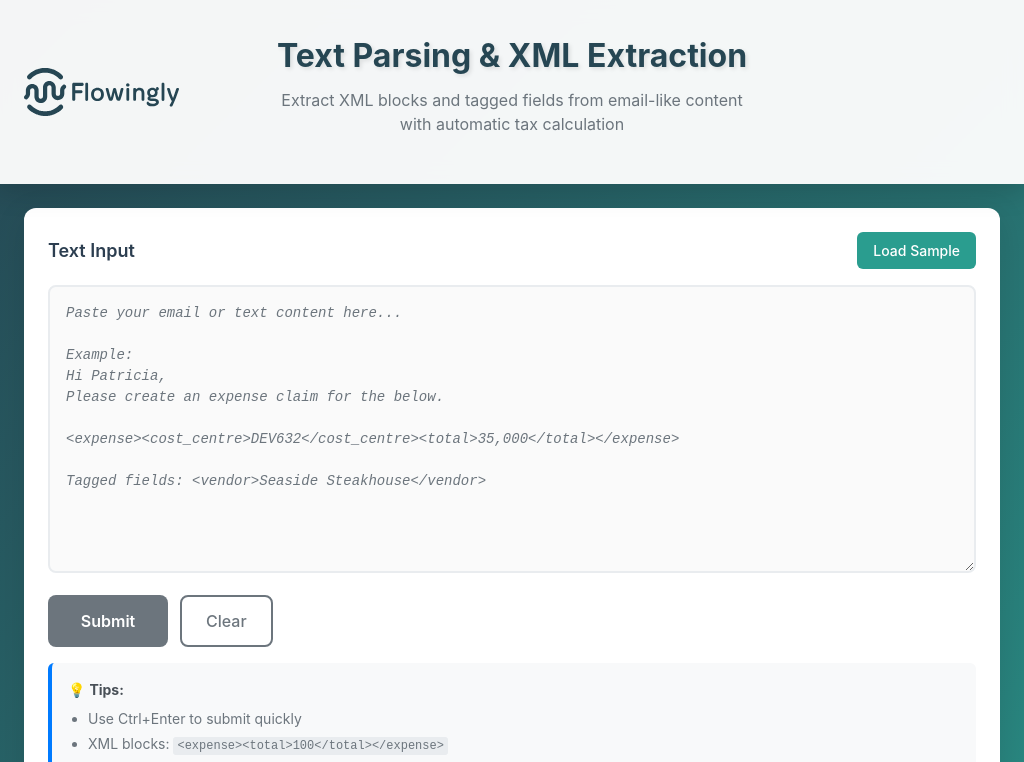
Test case: Text Parsing App › clears input when Clear button is clicked
Add some text
Replace the text in the text box labelled "Text Input" with "Some test text". click: (512, 429)
box: [48,285,976,573]
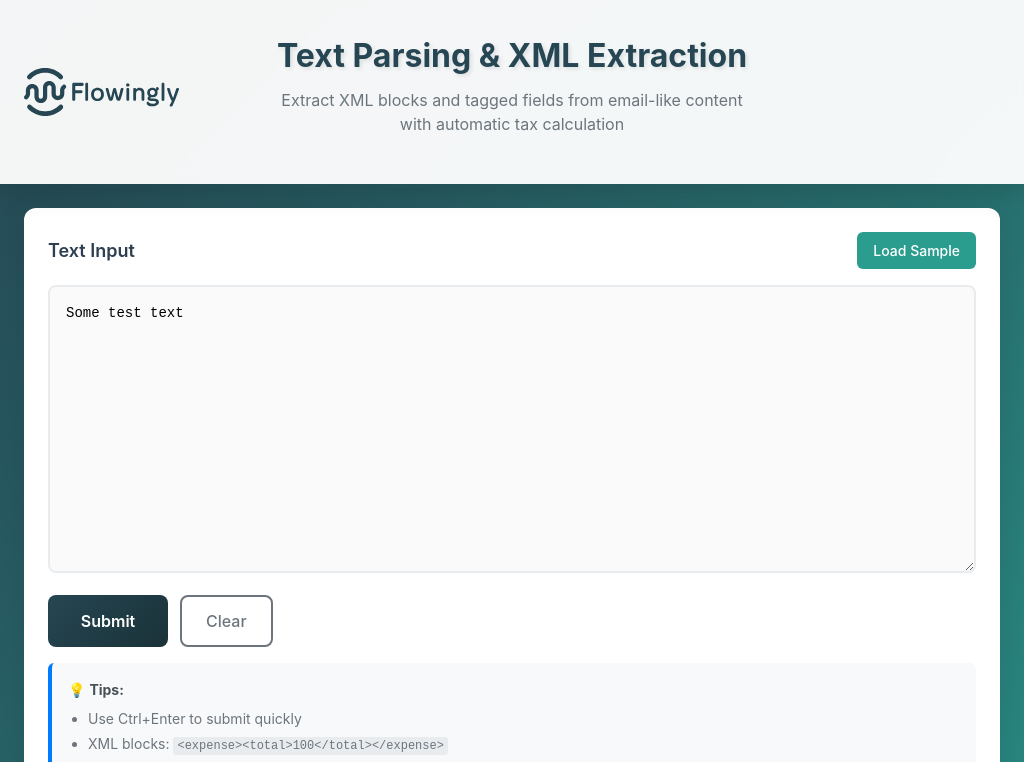
Clear the text
Click the button "Clear". click: (226, 621)
box: [180,595,273,647]
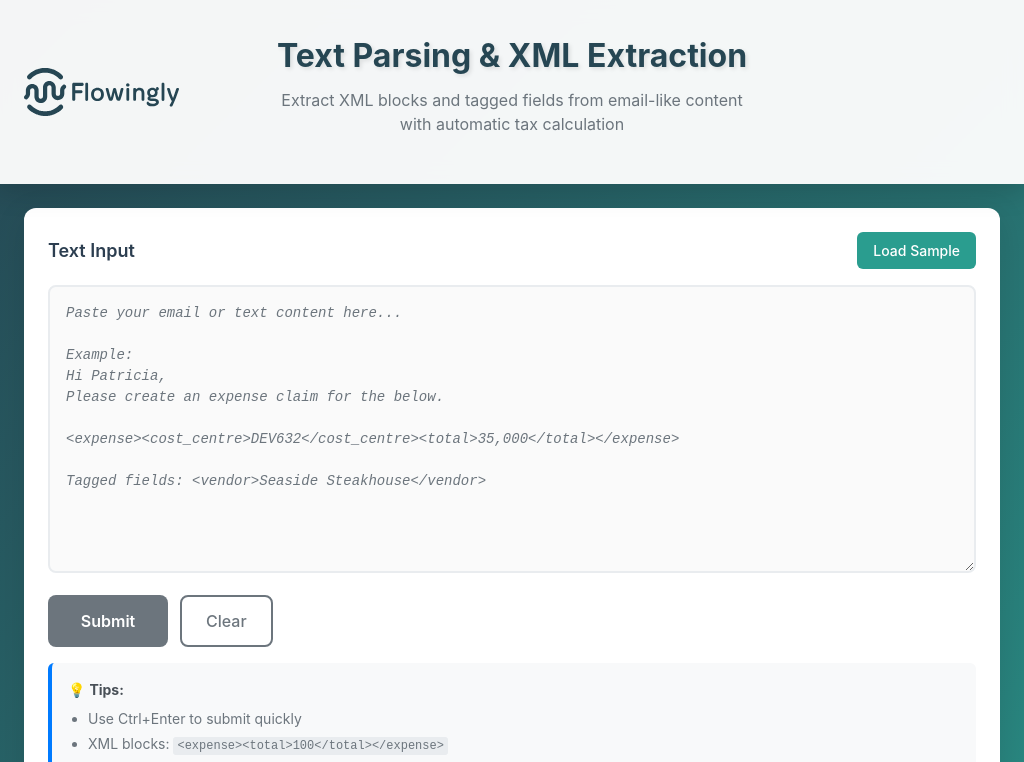
Check: the text box labelled "Text Input" is empty, box [48,285,976,573]
